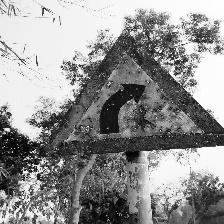Right-turn: (48, 43, 224, 154)
